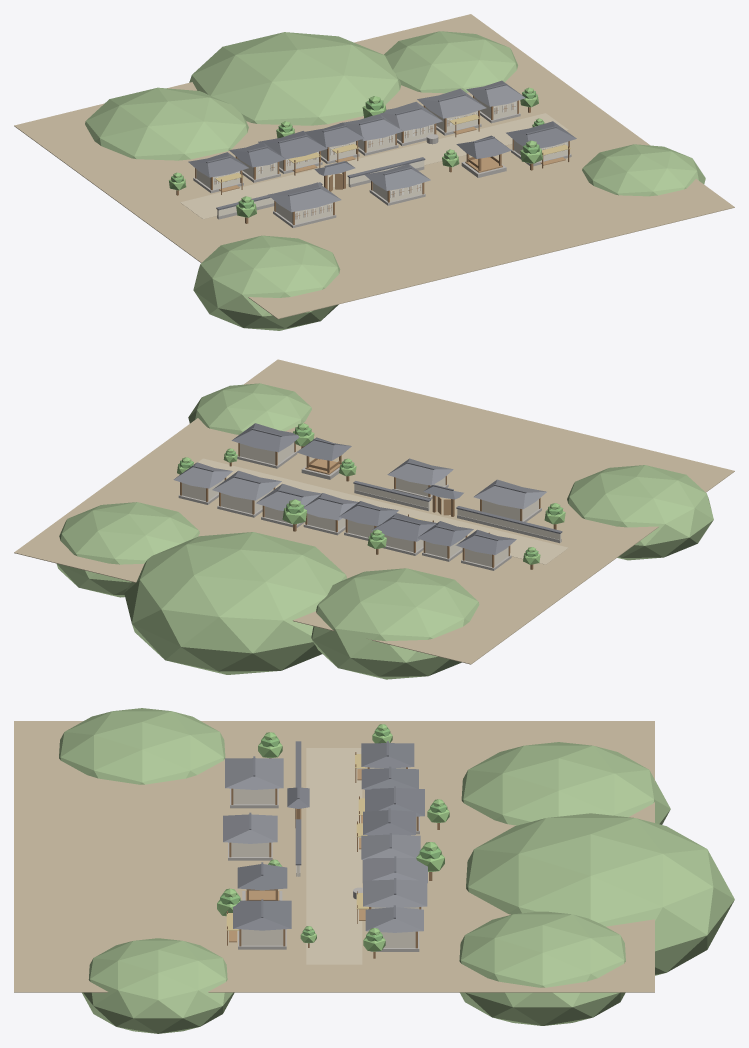
The model's file is joseon_street.glb.
3 renders of one model, top to bottom at view 1: azimuth 30°, elevation 25°; view 2: azimuth 150°, elevation 25°; view 3: azimuth 270°, elevation 25°, orthographic. The views are drawn at different scales.
Parts seen in each view (by area): view 1: ground, hill.001, hill.003, hill, hill.002, road, hill.004, roof.008, roof.006, roof.005, roof.010, roof.002 (+8 smaller); view 2: ground, hill.001, hill, hill.003, hill.002, hill.004, road, roof.008, roof.006, roof.010, roof.009, roof.002 (+11 smaller); view 3: ground, hill.001, hill.002, hill, road, hill.004, hill.003, roof.008, roof.006, roof.010, roof.009, roof.005 (+10 smaller).
Part boxes in pixels (left/top/right/bottom): ground: left=14, top=14, right=734, bottom=318; hill.001: left=189, top=32, right=400, bottom=125; hill.003: left=193, top=235, right=340, bottom=330; hill: left=85, top=87, right=248, bottom=160; hill.002: left=384, top=31, right=517, bottom=93; road: left=180, top=113, right=568, bottom=219; hill.004: left=582, top=144, right=705, bottom=196; roof.008: left=268, top=182, right=341, bottom=212; roof.006: left=417, top=88, right=486, bottom=118; roof.005: left=380, top=101, right=442, bottom=130; roof.010: left=506, top=121, right=576, bottom=148; roof.002: left=258, top=131, right=327, bottom=158; ground: left=14, top=359, right=734, bottom=664; hill.001: left=124, top=532, right=346, bottom=674; hill: left=311, top=568, right=479, bottom=679; hill.003: left=567, top=465, right=713, bottom=560; hill.002: left=56, top=502, right=199, bottom=597; hill.004: left=188, top=383, right=311, bottom=434; road: left=198, top=458, right=568, bottom=564; roof.008: left=473, top=479, right=546, bottom=509; roof.006: left=212, top=470, right=281, bottom=500; roof.010: left=231, top=423, right=299, bottom=452; roof.009: left=387, top=458, right=453, bottom=485; roof.002: left=371, top=513, right=436, bottom=541; ground: left=14, top=721, right=654, bottom=992; hill.001: left=466, top=813, right=734, bottom=975; hill.002: left=459, top=911, right=625, bottom=1025; hill: left=461, top=742, right=670, bottom=825; road: left=306, top=748, right=362, bottom=964; hill.004: left=82, top=938, right=234, bottom=1033; hill.003: left=59, top=708, right=225, bottom=784; roof.008: left=225, top=758, right=283, bottom=789; roof.006: left=363, top=879, right=427, bottom=907; roof.010: left=233, top=900, right=291, bottom=930; roof.009: left=223, top=814, right=277, bottom=843; roof.005: left=362, top=858, right=427, bottom=883.
Size of the model in its own units: 86.92 by 18 by 90.
